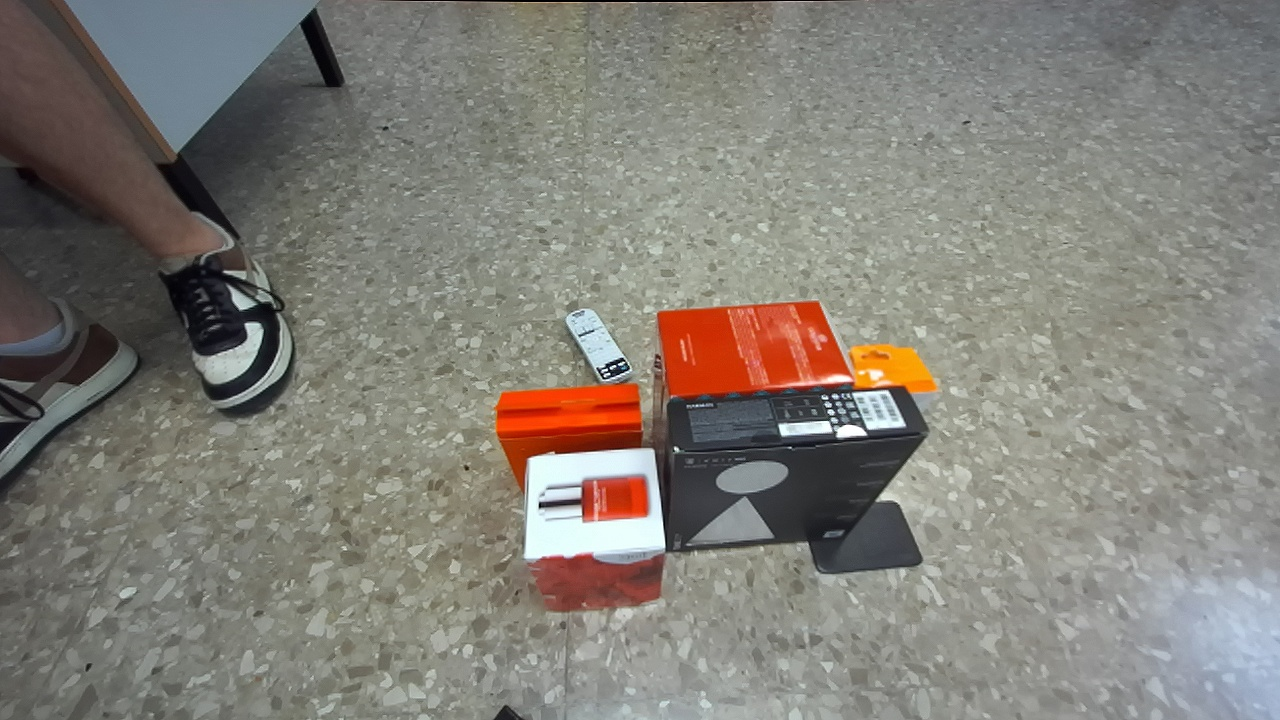caja_busbar: (652, 300, 854, 479)
caja_chasis: (666, 386, 927, 551)
caja_manguera: (496, 383, 642, 490)
caja_pcb: (850, 344, 937, 412)
caja_potencia: (524, 449, 665, 611)
